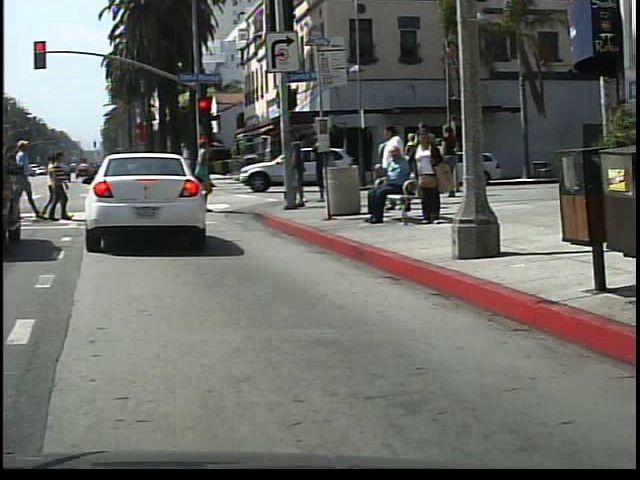person: (366, 147, 419, 226), (413, 127, 450, 225), (183, 135, 223, 220)
